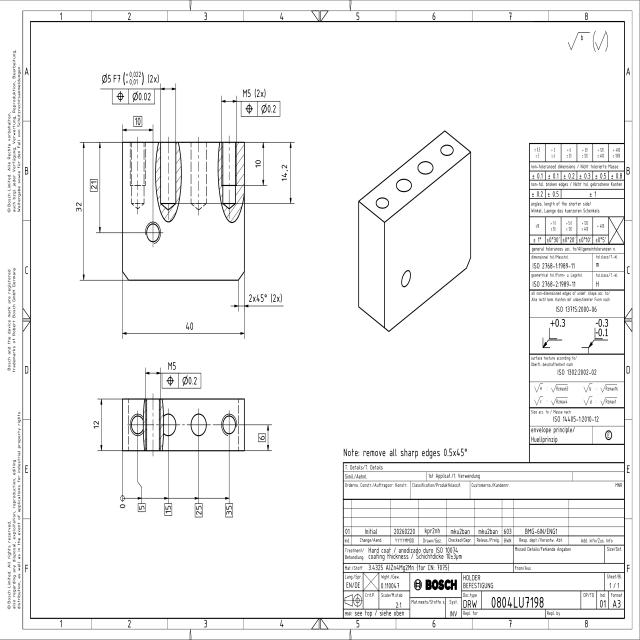dimension: (100, 70, 160, 86), (248, 292, 283, 304), (242, 88, 266, 99), (280, 163, 289, 182), (194, 502, 203, 519), (224, 502, 233, 518), (118, 495, 127, 509), (89, 178, 98, 192), (132, 115, 142, 127), (253, 158, 262, 171), (184, 321, 194, 332), (164, 503, 172, 516), (167, 360, 177, 370), (92, 419, 100, 431), (75, 201, 83, 213), (137, 503, 146, 513), (258, 432, 266, 443)
